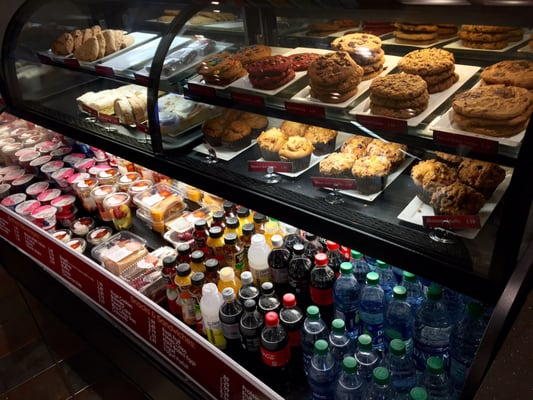salad: (481, 60, 533, 90)
sushi: (451, 83, 533, 137), (398, 47, 459, 95), (308, 54, 364, 103), (369, 73, 429, 116), (92, 230, 148, 275), (332, 32, 386, 75), (458, 24, 524, 50), (350, 156, 391, 195)
